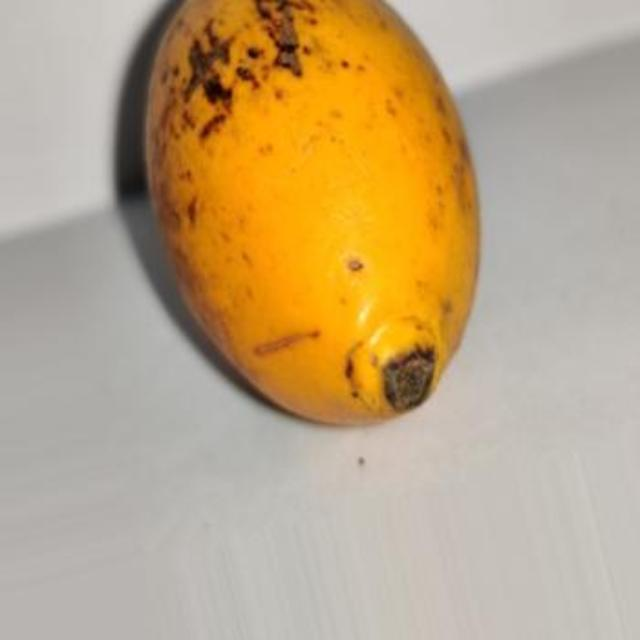good: (141, 0, 483, 430)
